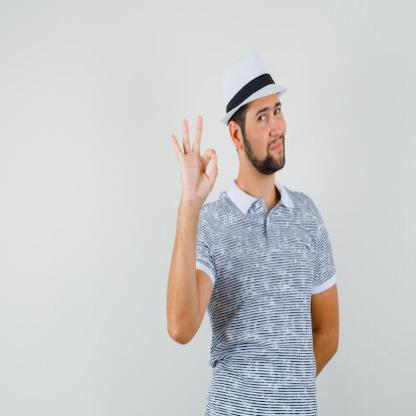ok: (166, 110, 222, 213)
